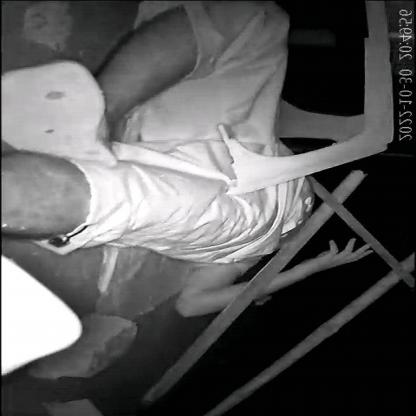hand: (199, 233, 380, 336)
leg: (3, 0, 206, 143)
